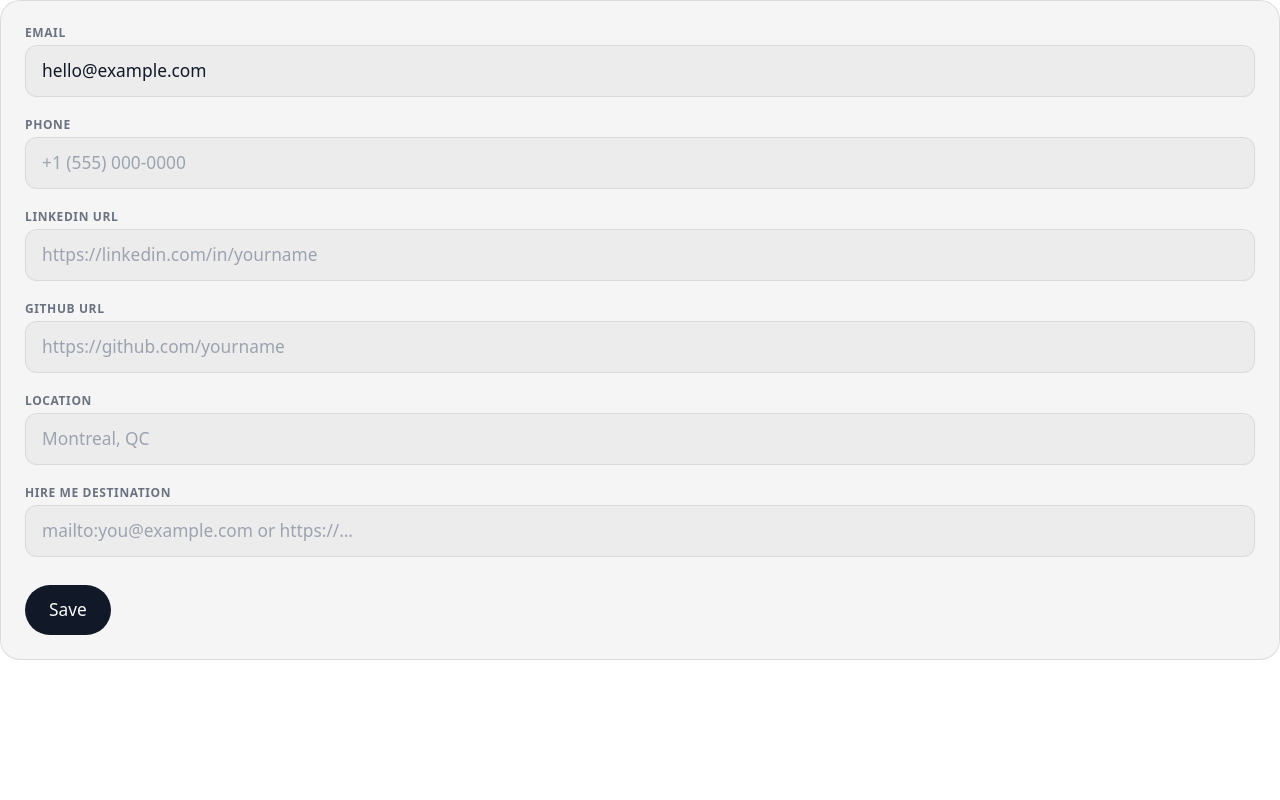
it: ContactsEditorForm - save failure › shows the success confirmation and no error when the save succeeds
Click the button "Save".
click(68, 610)  # box [25,585,111,635]
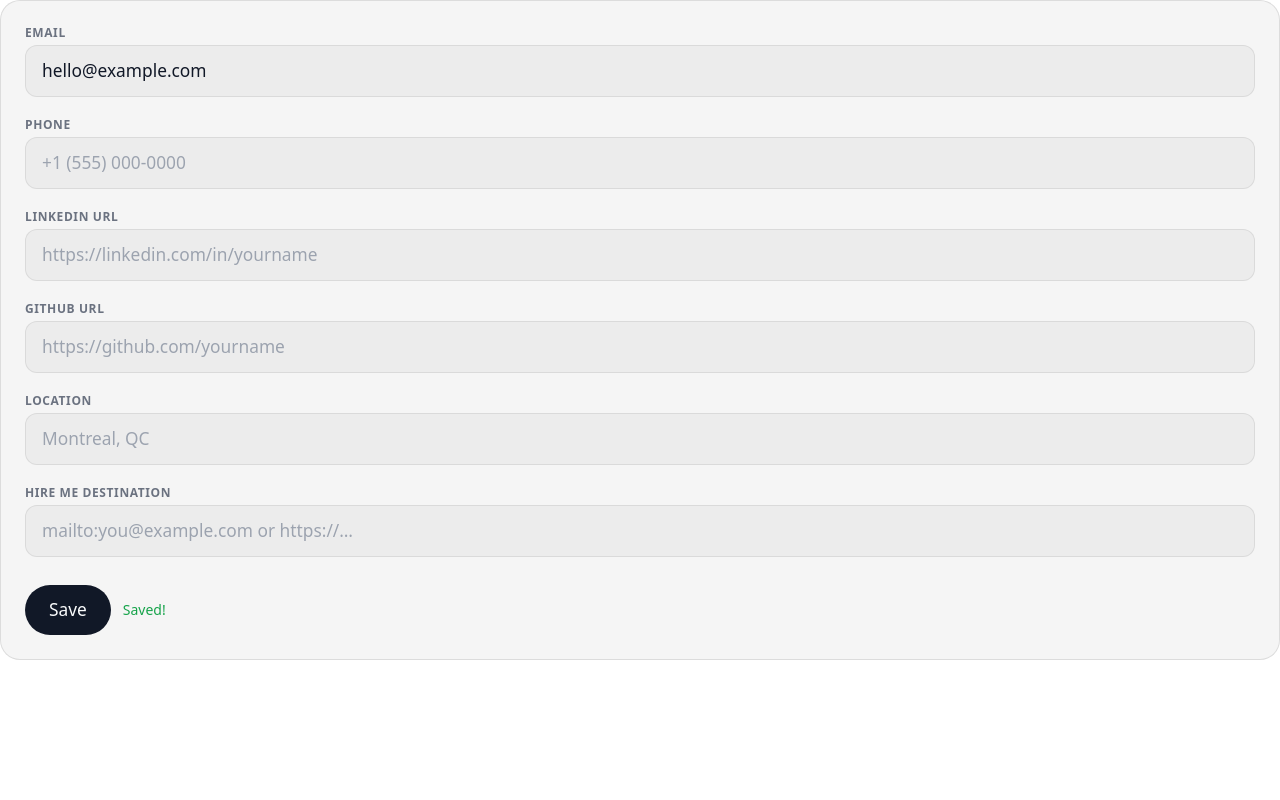
Check: the text "Saved!" is shown, box [123,600,166,620]
